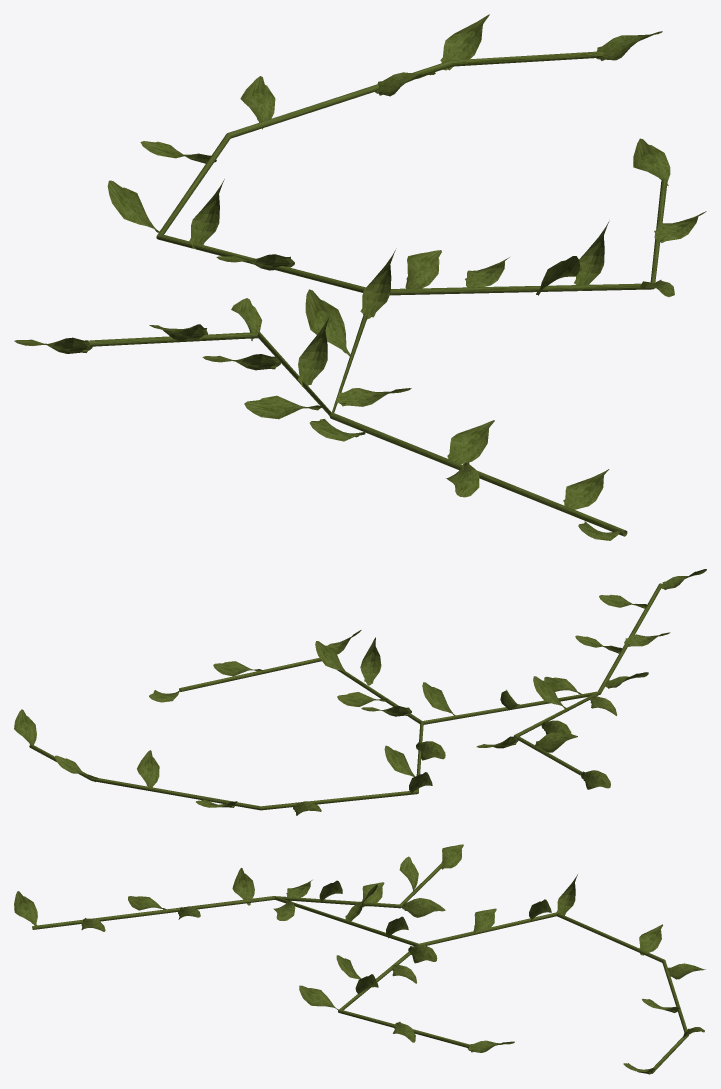
Rendered from Planta3.fbx.
3 renders of one model, top to bottom at view 1: azimuth 30°, elevation 25°; view 2: azimuth 150°, elevation 25°; view 3: azimuth 270°, elevation 25°, orthographic. The views are drawn at different scales.
Visible parts, largest first — view 1: Cube, Plane.008, Plane.003, Plane.028, Plane.009, Plane.024, Plane.015, Plane.014, Plane.023, Plane.021, Plane.005, Plane.026 (+2 smaller); view 2: Cube, Plane.017, Plane.027, Plane.029, Plane.012, Plane.014, Plane.018, Plane.023, Plane.009, Plane.013, Plane.022, Plane.016 (+1 smaller); view 3: Cube, Plane.011, Plane.006, Plane.002, Plane.019, Plane.025, Plane.013, Plane.024, Plane.015, Plane.022.
Part boxes in pixels (<box>): Cube: <box>89,51,667,536</box>; Plane.008: <box>305,289,350,356</box>; Plane.003: <box>447,420,494,463</box>; Plane.028: <box>440,14,489,70</box>; Plane.009: <box>298,316,329,386</box>; Plane.024: <box>107,180,160,232</box>; Plane.015: <box>405,250,441,289</box>; Plane.014: <box>360,248,396,319</box>; Plane.023: <box>189,179,224,249</box>; Plane.021: <box>633,138,670,185</box>; Plane.005: <box>563,469,609,509</box>; Plane.026: <box>240,76,275,129</box>; Cube: <box>29,583,661,810</box>; Plane.017: <box>360,637,381,685</box>; Plane.027: <box>137,750,159,787</box>; Plane.029: <box>14,709,36,744</box>; Plane.012: <box>534,732,577,752</box>; Plane.014: <box>422,682,456,716</box>; Plane.018: <box>315,641,349,674</box>; Plane.023: <box>384,745,414,776</box>; Plane.009: <box>533,676,568,709</box>; Plane.013: <box>581,770,610,789</box>; Plane.022: <box>416,741,445,760</box>; Plane.016: <box>337,692,388,706</box>; Cube: <box>32,863,688,1073</box>; Plane.011: <box>401,898,445,917</box>; Plane.006: <box>14,891,37,925</box>; Plane.002: <box>232,868,254,905</box>; Plane.019: <box>299,985,338,1009</box>; Plane.025: <box>639,924,662,955</box>; Plane.013: <box>441,844,463,869</box>; Plane.024: <box>557,874,577,915</box>; Plane.015: <box>408,945,437,963</box>; Plane.022: <box>473,908,496,932</box>.
Size of the model in its own units: 28.1 by 2.2 by 34.75.
Materials: 29 (29 with a texture image).
